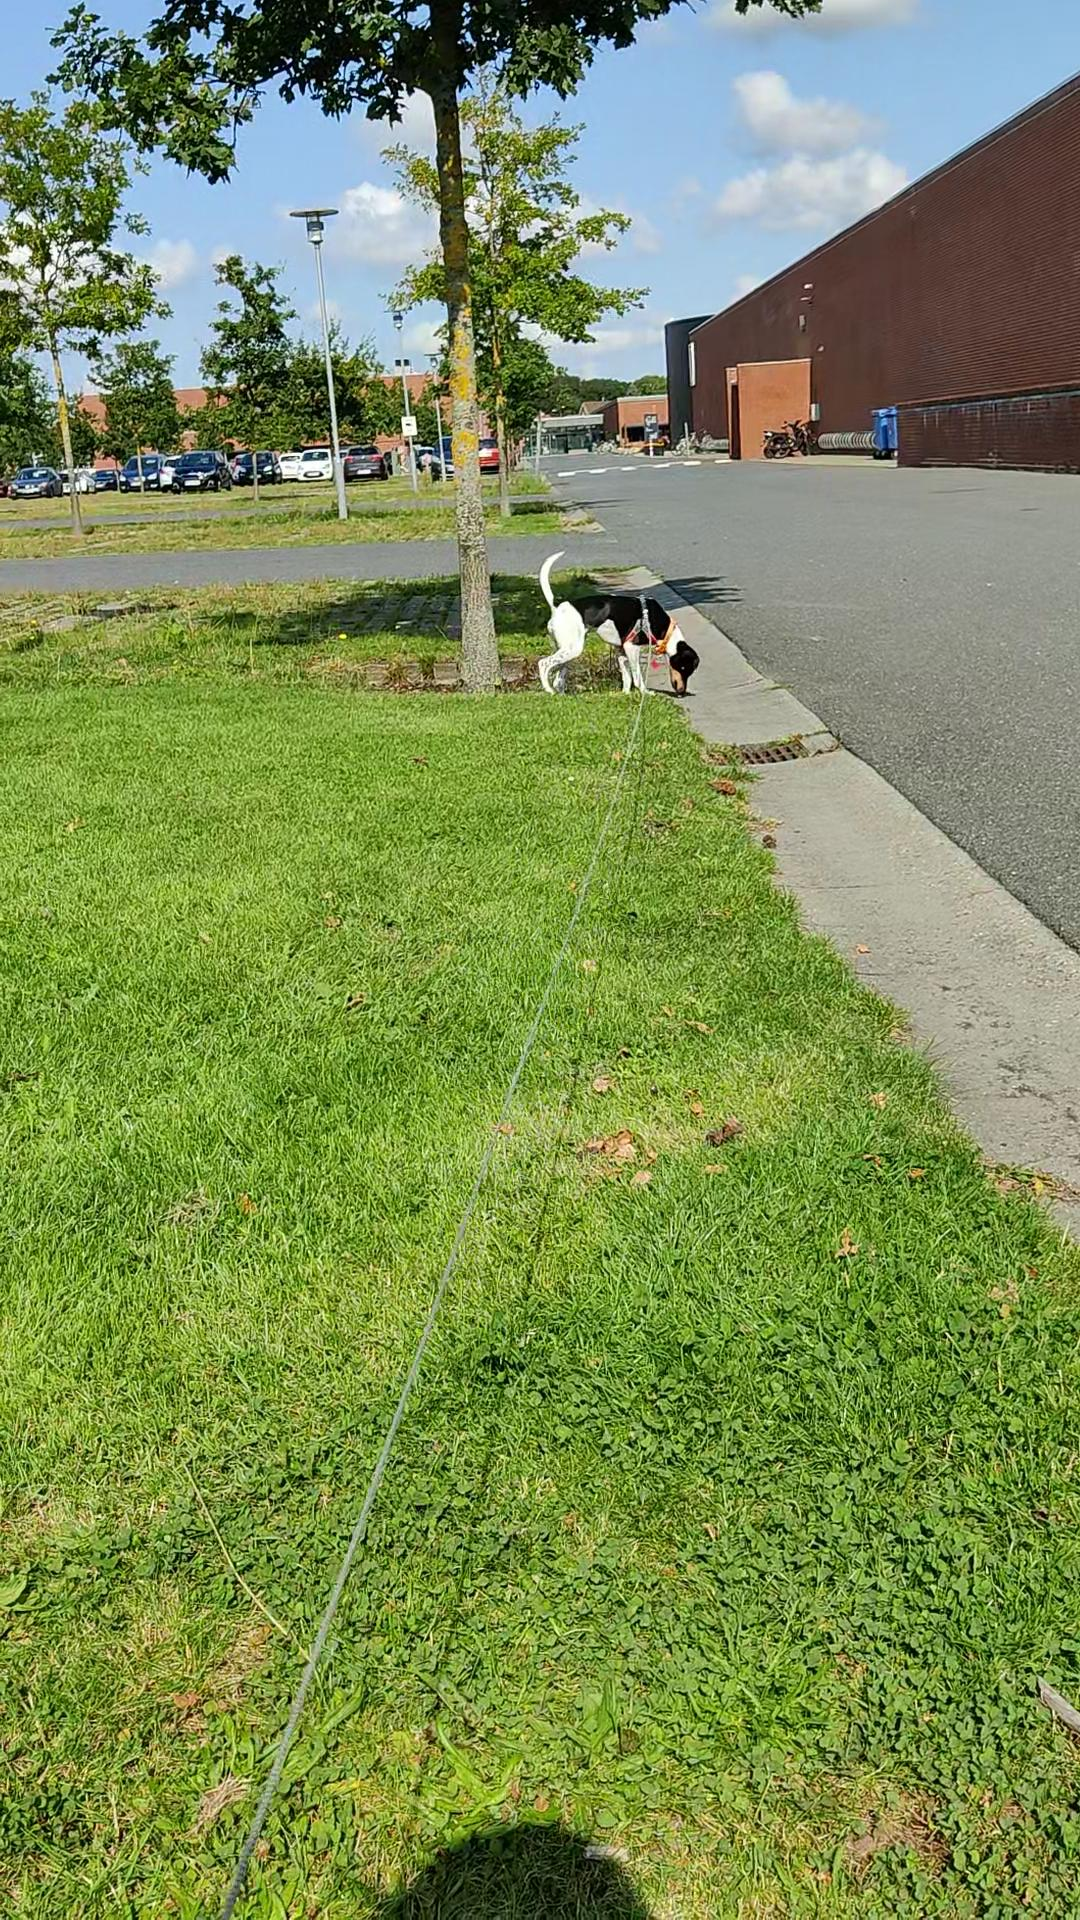Dog: (531, 549, 704, 699)
